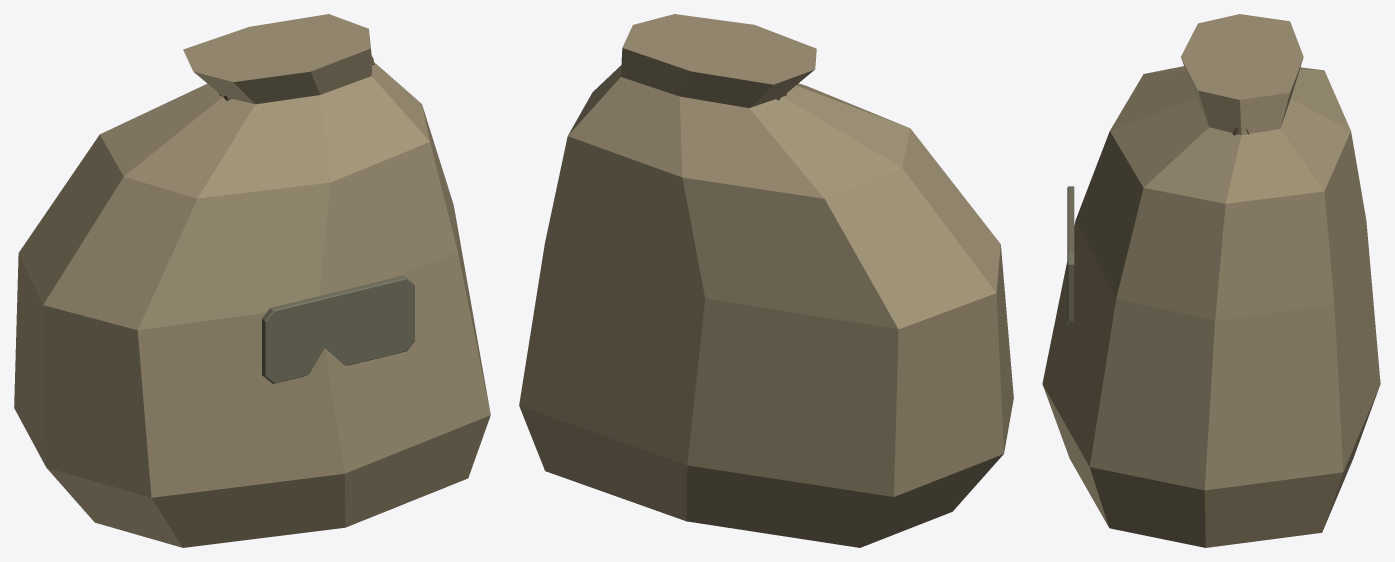
The model's file is G-07_flour_sack.glb.
3 renders of one model, left to right at view 1: azimuth 30°, elevation 25°; view 2: azimuth 150°, elevation 25°; view 3: azimuth 270°, elevation 25°, orthographic. The views are drawn at different scales.
Visible parts, largest first — view 1: G-07_flour_sack; view 2: G-07_flour_sack; view 3: G-07_flour_sack.
Part boxes in pixels (left/top/right/bottom): G-07_flour_sack: left=14, top=14, right=490, bottom=547; G-07_flour_sack: left=519, top=14, right=1013, bottom=547; G-07_flour_sack: left=1042, top=14, right=1380, bottom=547.
Bounding box in the file's own units: 0.426 × 0.384 × 0.286.
